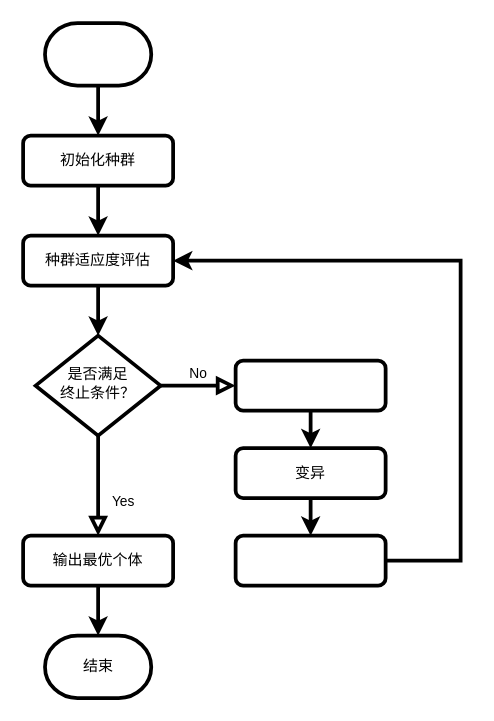
This 494x721 diagram has some shape labels left out. Here are the shapes that lost their labels. From the top down, the box of each, then its label:
(42, 21, 152, 87): 开始
(233, 358, 387, 412): 交叉
(233, 533, 387, 587): 更新
